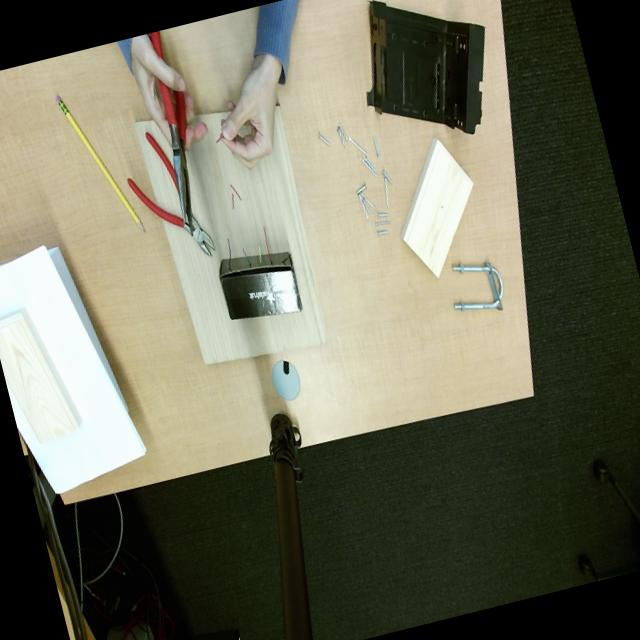pliers: (127, 132, 214, 255), (159, 81, 214, 255), (149, 31, 163, 57)
